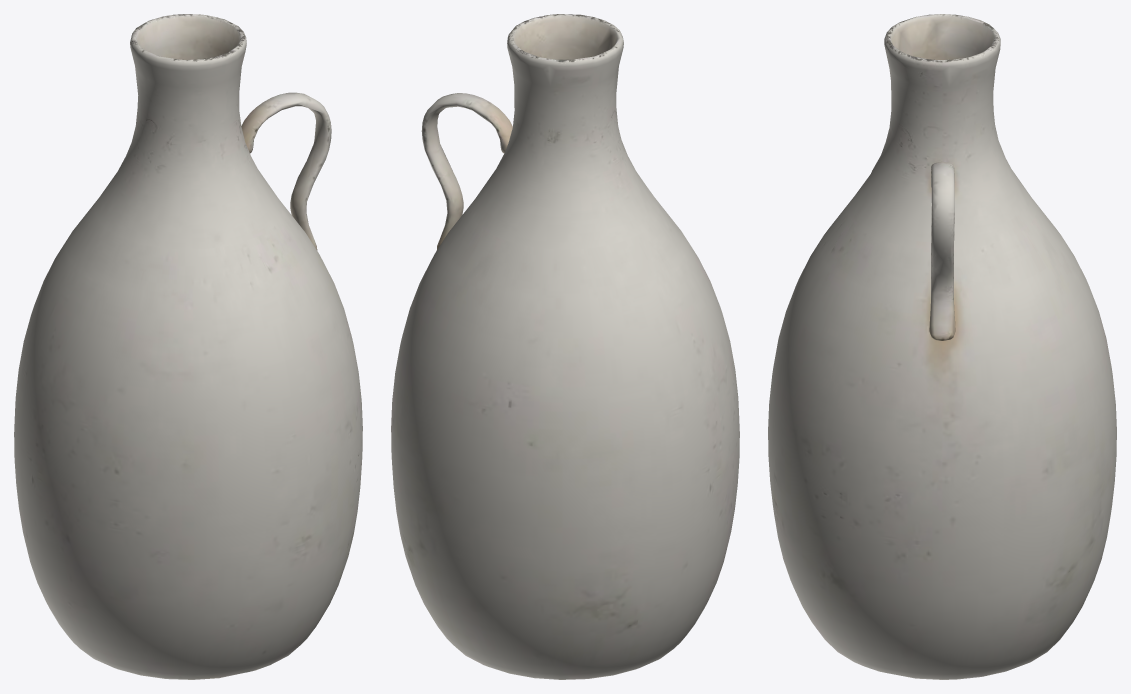
The model's file is ceramic_vase_04.glb.
3 views of the same model, side by side, from view 1: azimuth 30°, elevation 25°; view 2: azimuth 150°, elevation 25°; view 3: azimuth 270°, elevation 25° (orthographic).
Visible parts, largest first — view 1: ceramic_vase_04; view 2: ceramic_vase_04; view 3: ceramic_vase_04.
Part boxes in pixels (x1,y1,x2,y2): ceramic_vase_04: (14,14,362,679); ceramic_vase_04: (391,14,739,679); ceramic_vase_04: (768,14,1116,679).
Size of the model in its own units: 0.1811 by 0.3419 by 0.1811.
Materials: 1 (1 with a texture image).
